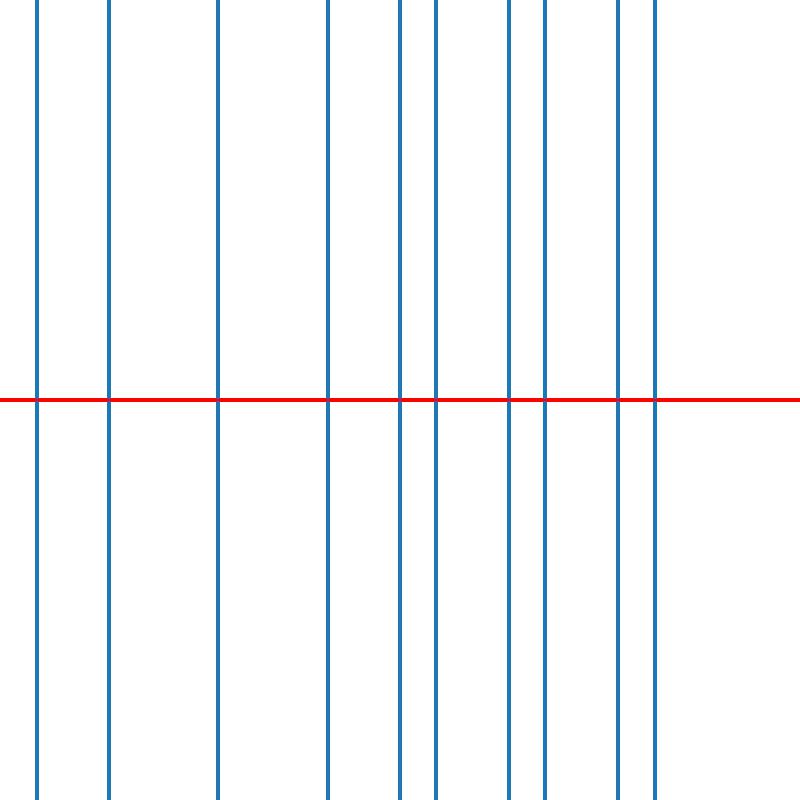root: (32, 396, 40, 404), (650, 396, 658, 404), (432, 396, 440, 404), (541, 396, 549, 404), (323, 396, 330, 404), (505, 396, 512, 404), (105, 396, 112, 404), (614, 396, 621, 404), (396, 396, 403, 404), (214, 396, 221, 404)
